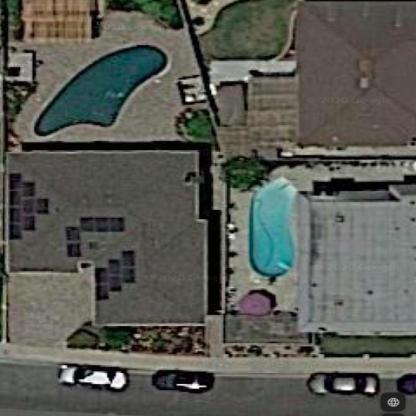car: (50, 350, 132, 396), (308, 367, 387, 406), (144, 364, 221, 396)
solar_panel: (6, 170, 53, 247), (66, 210, 127, 258), (88, 244, 137, 300)
swimming_pool: (19, 34, 181, 141), (244, 163, 297, 285)
